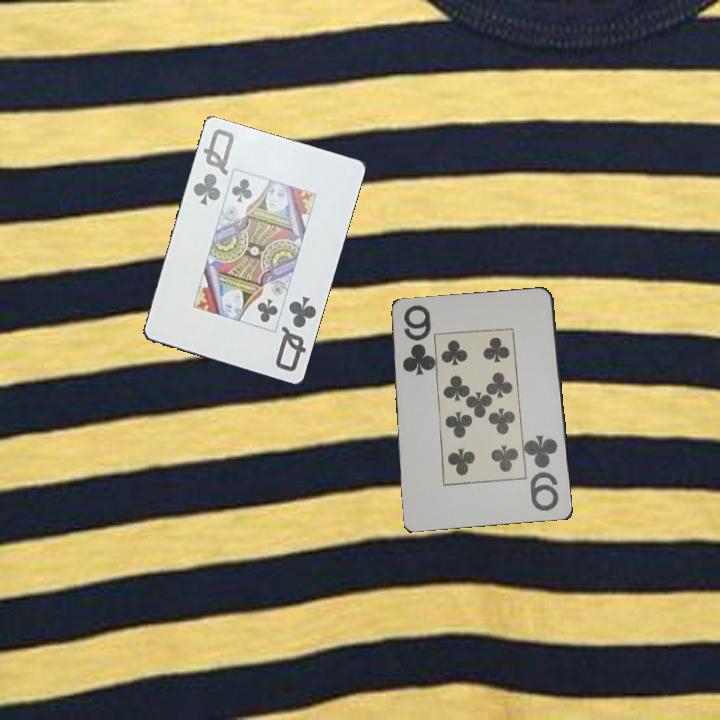9c: (524, 431, 562, 514), (399, 302, 433, 379)
Qc: (189, 125, 237, 209), (272, 293, 319, 375)
